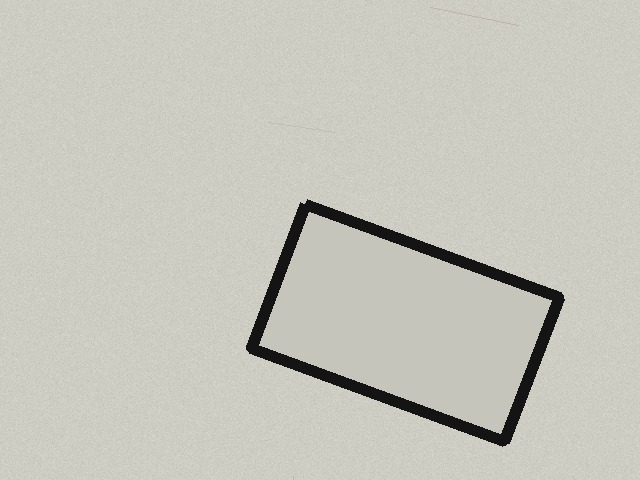parking_area: (251, 204, 559, 441)
